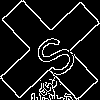S: (25, 25, 81, 82)
